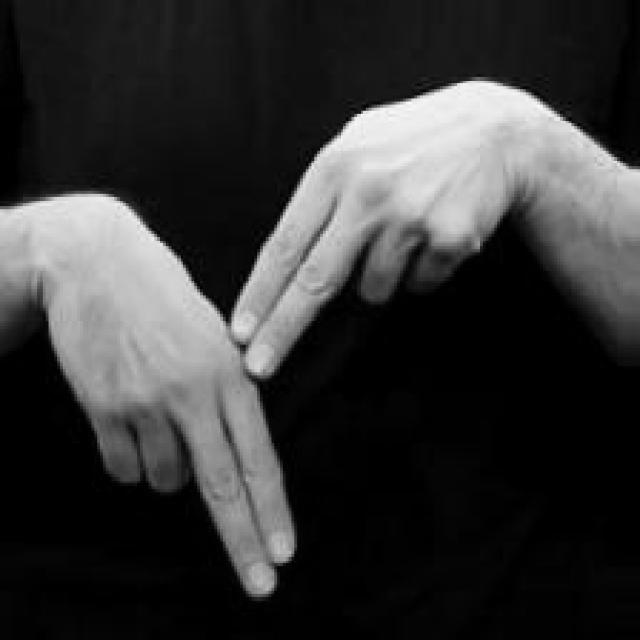K: (5, 68, 537, 604)
